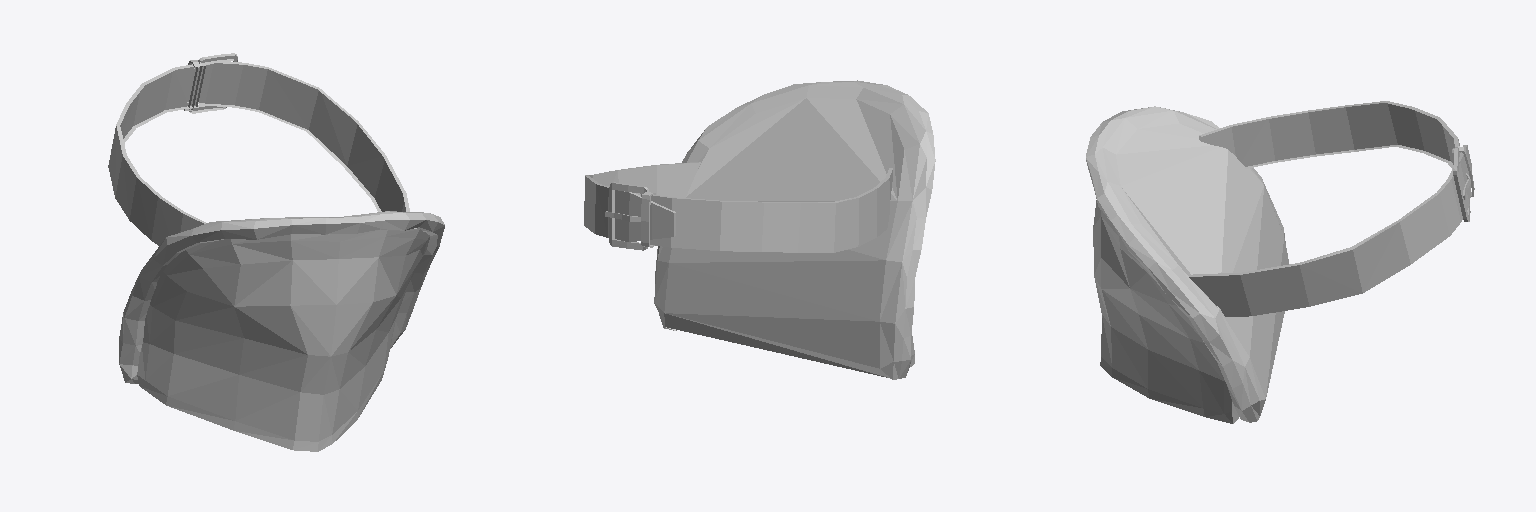
Rendered from genouillere_droite.obj.
The picture shows the model from 3 angles: view 1: azimuth 30°, elevation 25°; view 2: azimuth 150°, elevation 25°; view 3: azimuth 270°, elevation 25°; orthographic projection.
Visible parts, largest first — view 1: Soi_SimpleArmor_Kneeguards.001_Plane.001; view 2: Soi_SimpleArmor_Kneeguards.001_Plane.001; view 3: Soi_SimpleArmor_Kneeguards.001_Plane.001.
Part boxes in pixels (bbox=[...]): Soi_SimpleArmor_Kneeguards.001_Plane.001: bbox=[108, 53, 444, 451]; Soi_SimpleArmor_Kneeguards.001_Plane.001: bbox=[584, 80, 935, 379]; Soi_SimpleArmor_Kneeguards.001_Plane.001: bbox=[1086, 101, 1474, 423].
Bounding box in the file's own units: 0.154 × 0.1315 × 0.1854.